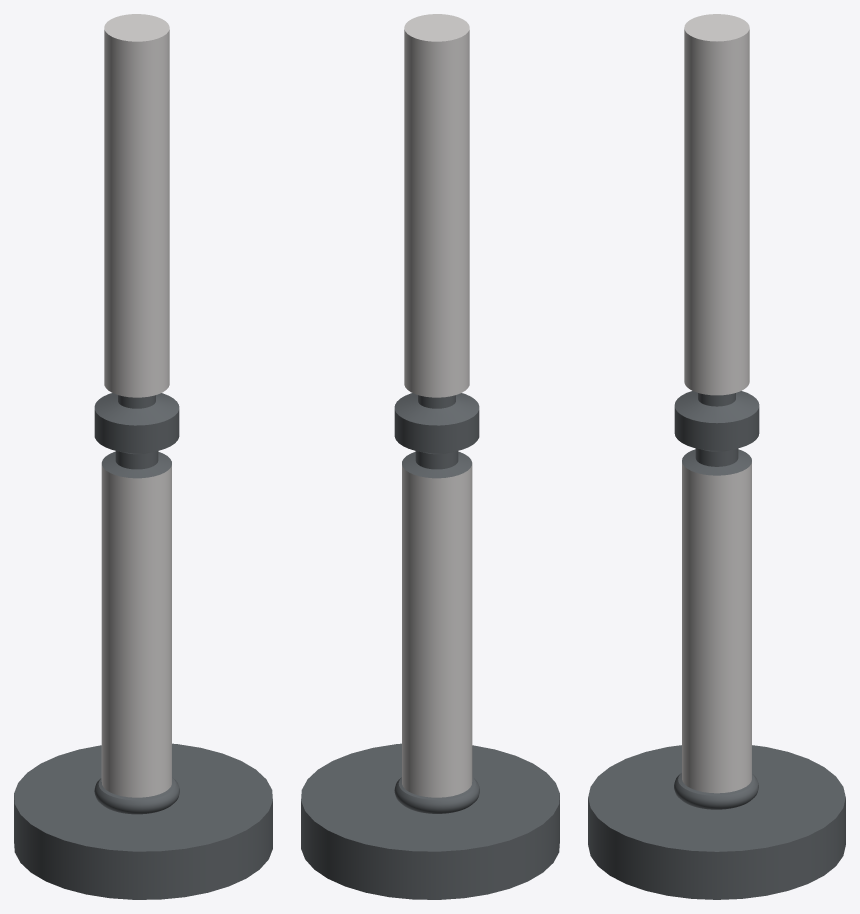
The model's file is BaseLampara.obj.
3 views of the same model, side by side, from view 1: azimuth 30°, elevation 25°; view 2: azimuth 150°, elevation 25°; view 3: azimuth 270°, elevation 25° (orthographic).
Parts seen in each view (by area): view 1: Base_Lampara; view 2: Base_Lampara; view 3: Base_Lampara.
Boxes of the visible parts, x1=… form: Base_Lampara: x1=14, y1=14, x2=272, y2=899; Base_Lampara: x1=301, y1=14, x2=559, y2=899; Base_Lampara: x1=588, y1=14, x2=845, y2=899.
Bounding box in the file's own units: 1.32 × 4.61 × 1.32.
Materials: 2 (2 with a texture image).
